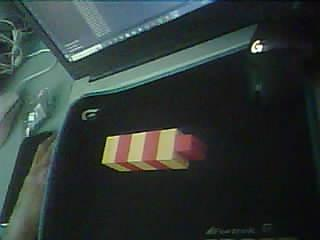lego: (100, 128, 207, 171)
